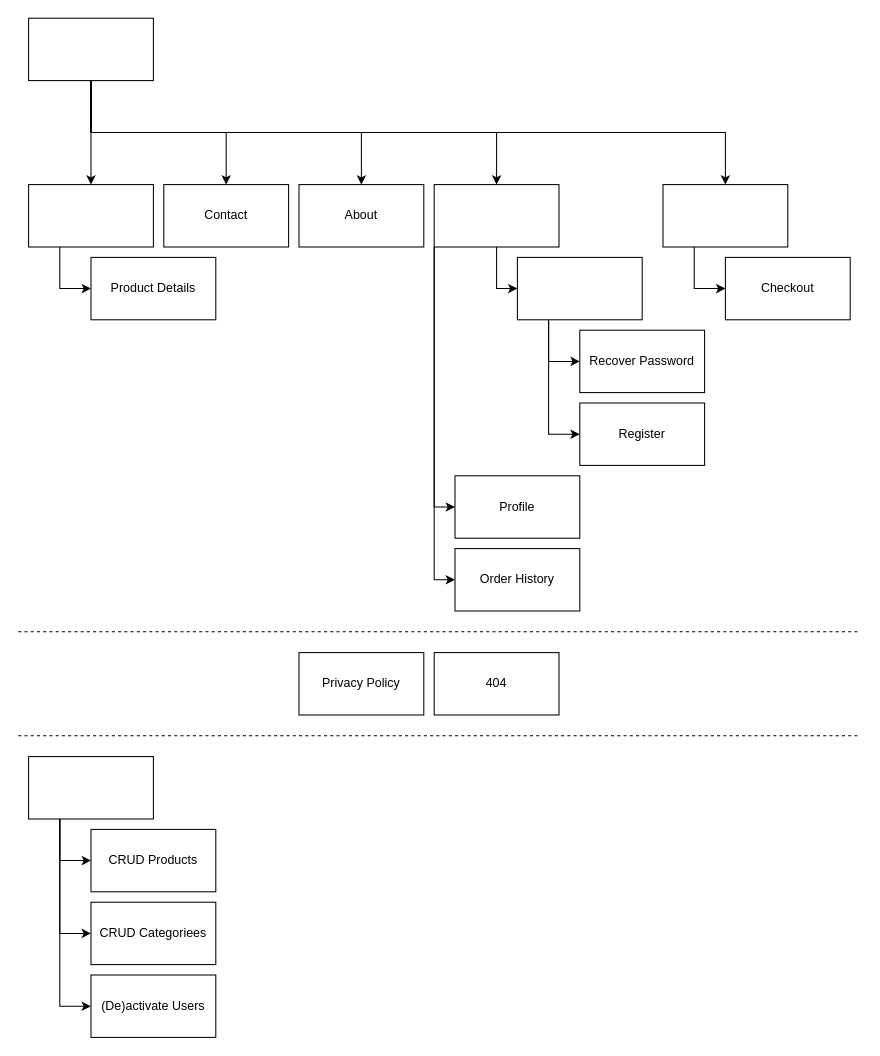
This 880x1056 diagram has some shape labels left out. The centre of each missing label's shape, as x and y in pixels:
Account: pixel 496 215
Admin: pixel 90 787
Cart: pixel 725 215
Home: pixel 90 49
Login: pixel 579 288
Products: pixel 90 215
